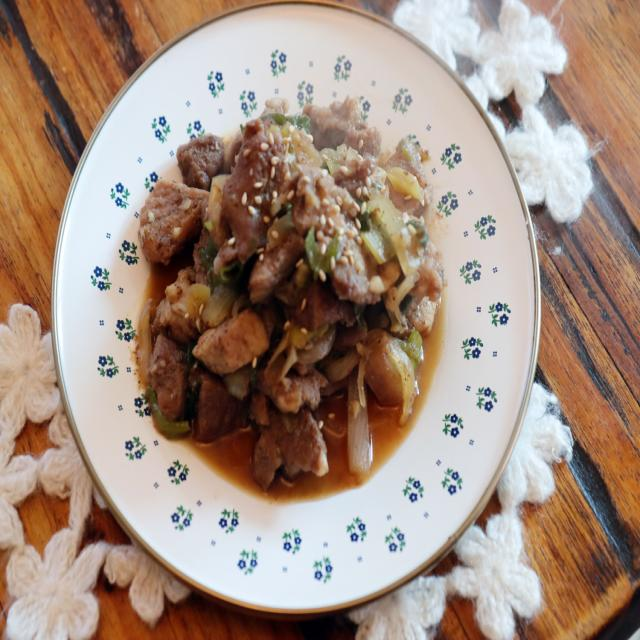carne de res: (125, 93, 472, 522)
